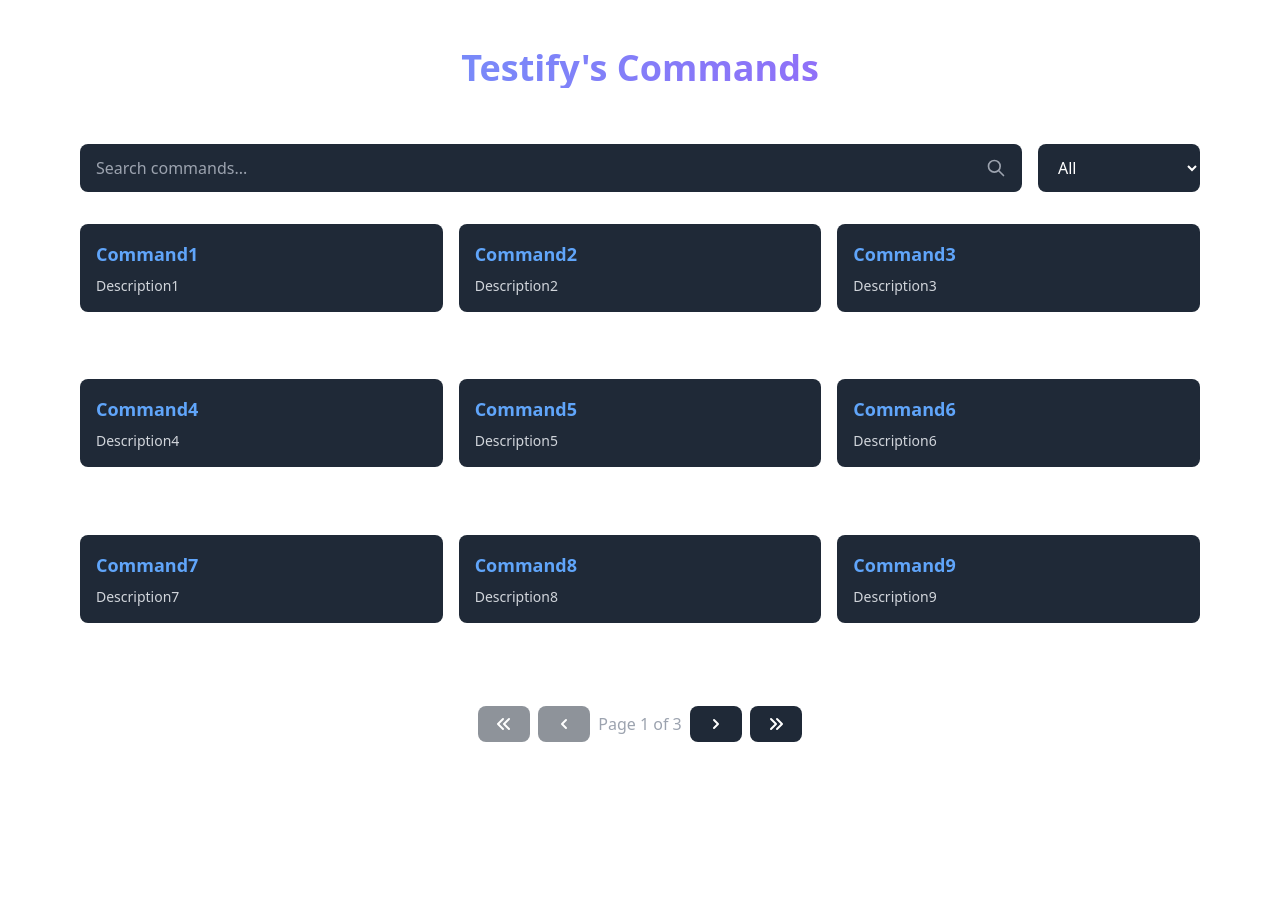
Scenario: CommandSearch › should paginate commands to previous page
The image size is (1280, 900).
Click the button with test id "next-page-button" at [716, 724], box [690,706,742,742]
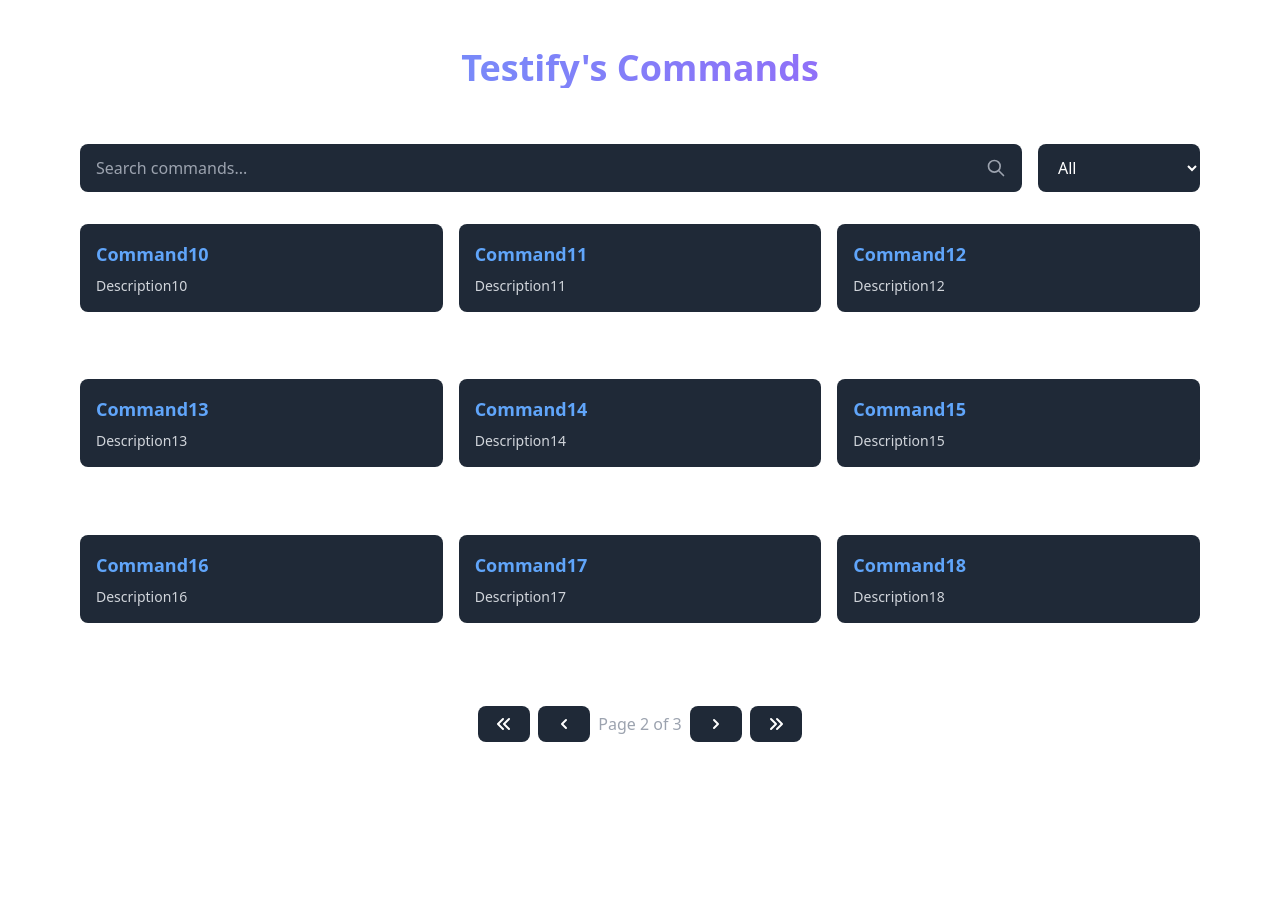
Now the heading "Command10" is shown, box [96,242,209,266]
Now the heading "Command18" is shown, box [853,553,966,577]
Click the button with test id "previous-page-button" at [564, 724], box [538,706,590,742]
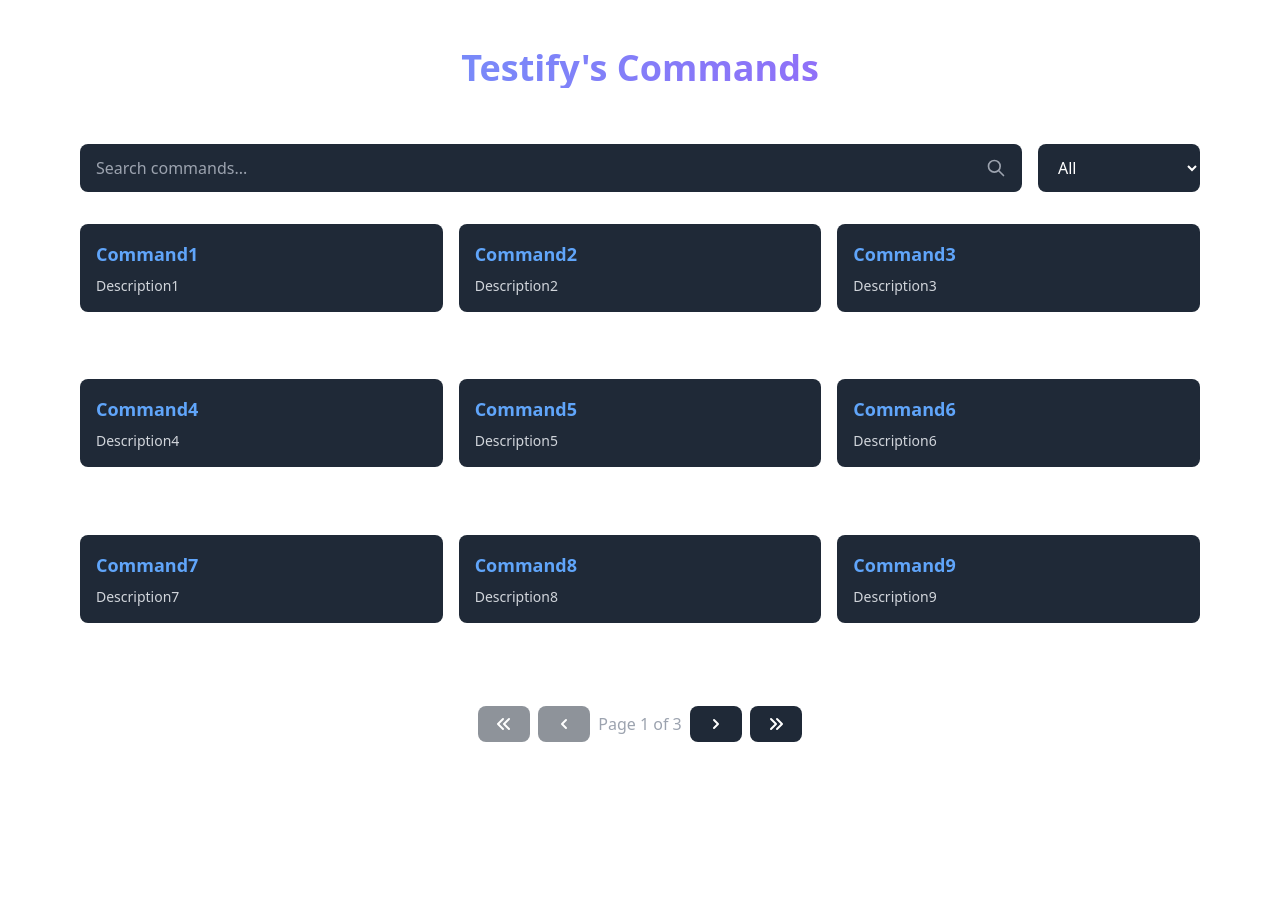
Expected: the heading "Command1" is shown, [96,242,198,266]
Now the heading "Command9" is shown, box [853,553,956,577]
Now the heading "Command10" is gone
